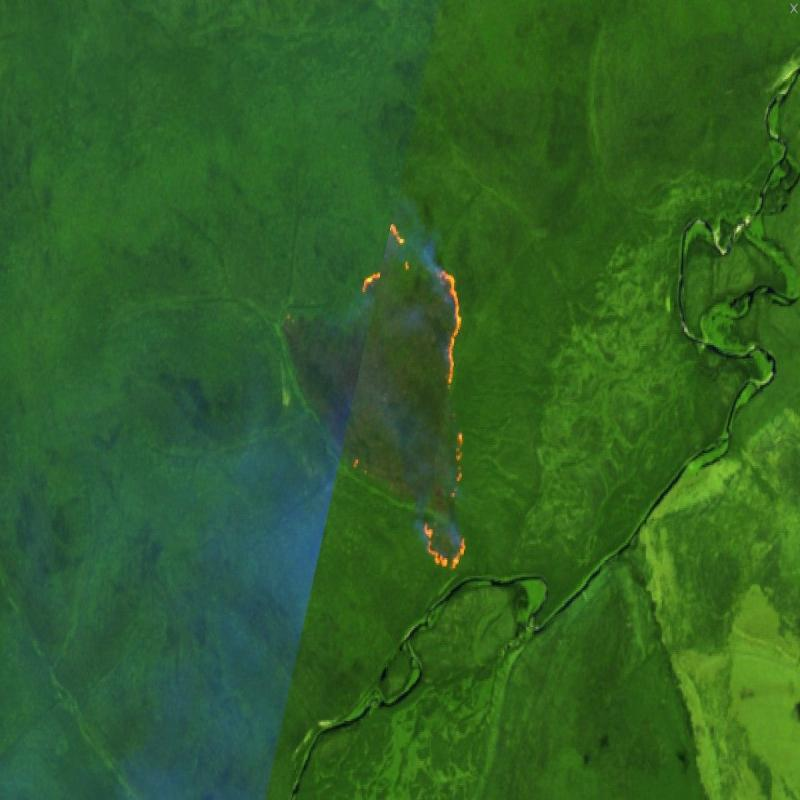fire: (347, 214, 480, 575)
